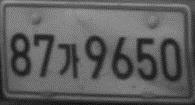0: (159, 38, 183, 82)
5: (135, 36, 158, 80)
6: (110, 36, 133, 80)
7: (31, 32, 55, 77)
8: (9, 32, 32, 77)
9: (83, 34, 107, 80)
가: (56, 42, 81, 80)
